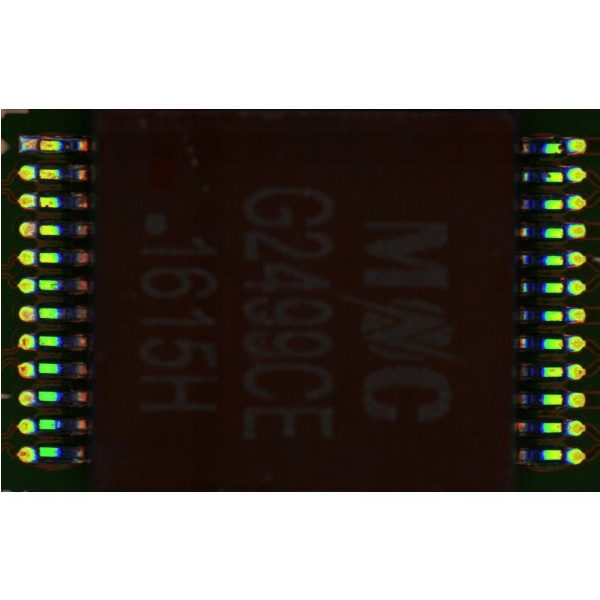Bad_podu: (28, 139, 46, 149), (26, 225, 47, 233)
